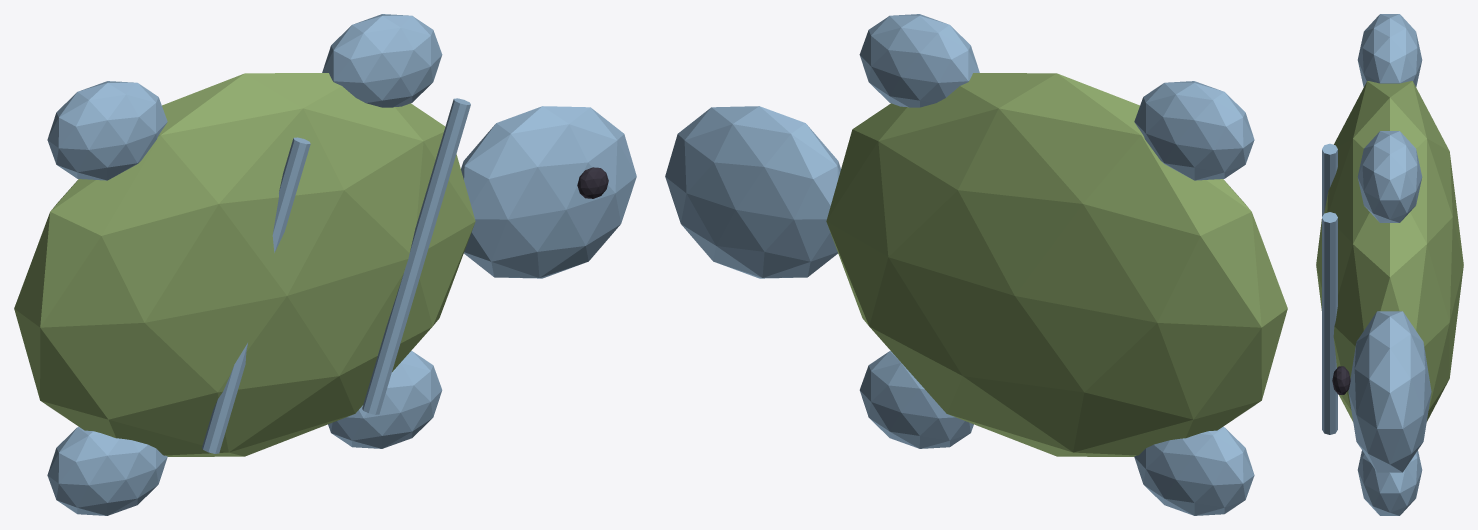
The model's file is slow-steady.glb.
3 views of the same model, side by side, from view 1: azimuth 30°, elevation 25°; view 2: azimuth 150°, elevation 25°; view 3: azimuth 270°, elevation 25° (orthographic). The views are drawn at different scales.
Visible parts, largest first — view 1: Patient tortoise shell.001, Tortoise head.001, Shell facet.002, Tortoise eye.001; view 2: Patient tortoise shell.001, Tortoise head.001; view 3: Patient tortoise shell.001, Tortoise head.001, Shell facet.002, Tortoise eye.001.
Part boxes in pixels (bbox=[...]): Patient tortoise shell.001: bbox=[14, 73, 475, 456]; Tortoise head.001: bbox=[47, 14, 636, 515]; Shell facet.002: bbox=[202, 98, 470, 453]; Tortoise eye.001: bbox=[577, 167, 608, 198]; Patient tortoise shell.001: bbox=[826, 73, 1287, 456]; Tortoise head.001: bbox=[665, 14, 1254, 515]; Patient tortoise shell.001: bbox=[1316, 81, 1463, 421]; Tortoise head.001: bbox=[1348, 14, 1431, 515]; Shell facet.002: bbox=[1322, 143, 1337, 434]; Tortoise eye.001: bbox=[1332, 366, 1350, 394].
Size of the model in its own units: 0.0263 by 0.018 by 0.0064.
